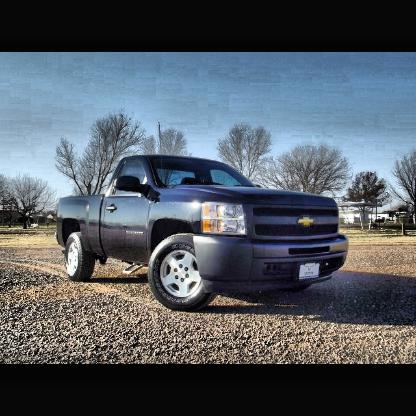Chevrolet Silverado 2500HD Regular Cab 2012: (57, 156, 350, 313)
